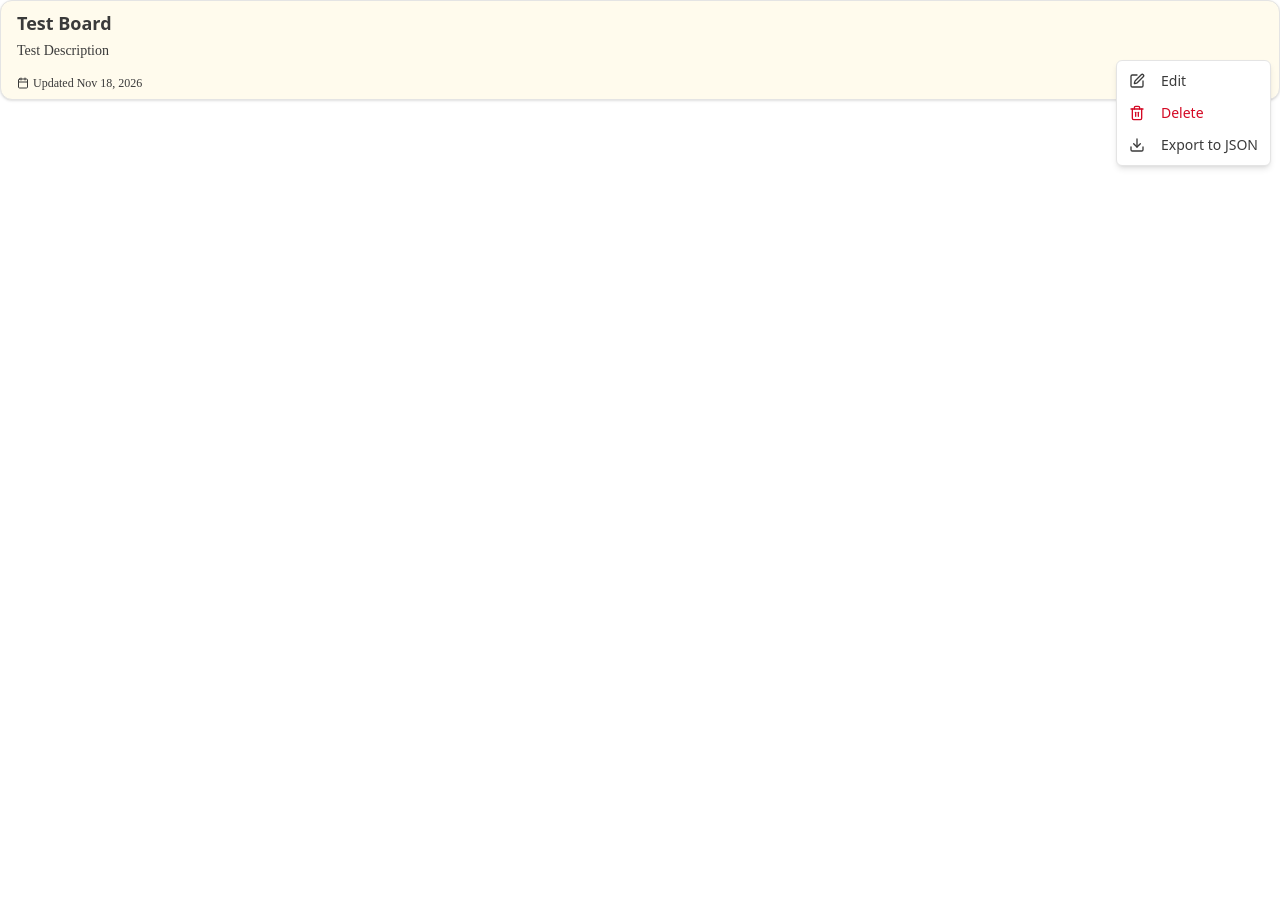
Test case: BoardCard › should show edit dialog when edit is clicked
Earlier steps of the test are not shown.
Click the menu item "Edit".
click(1137, 81)  # box [1129,71,1186,90]
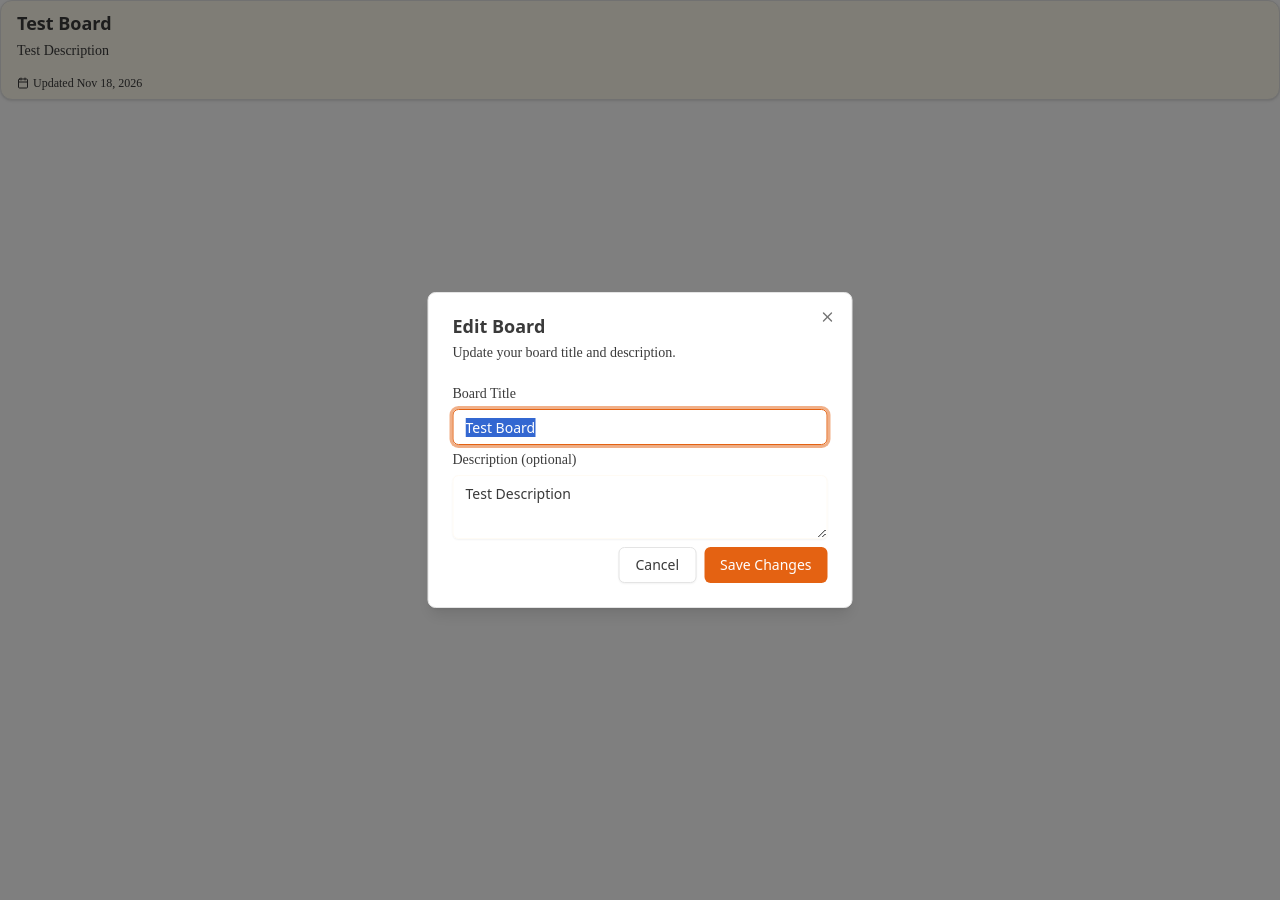
Result: the dialog is shown at [428,292,852,608]
